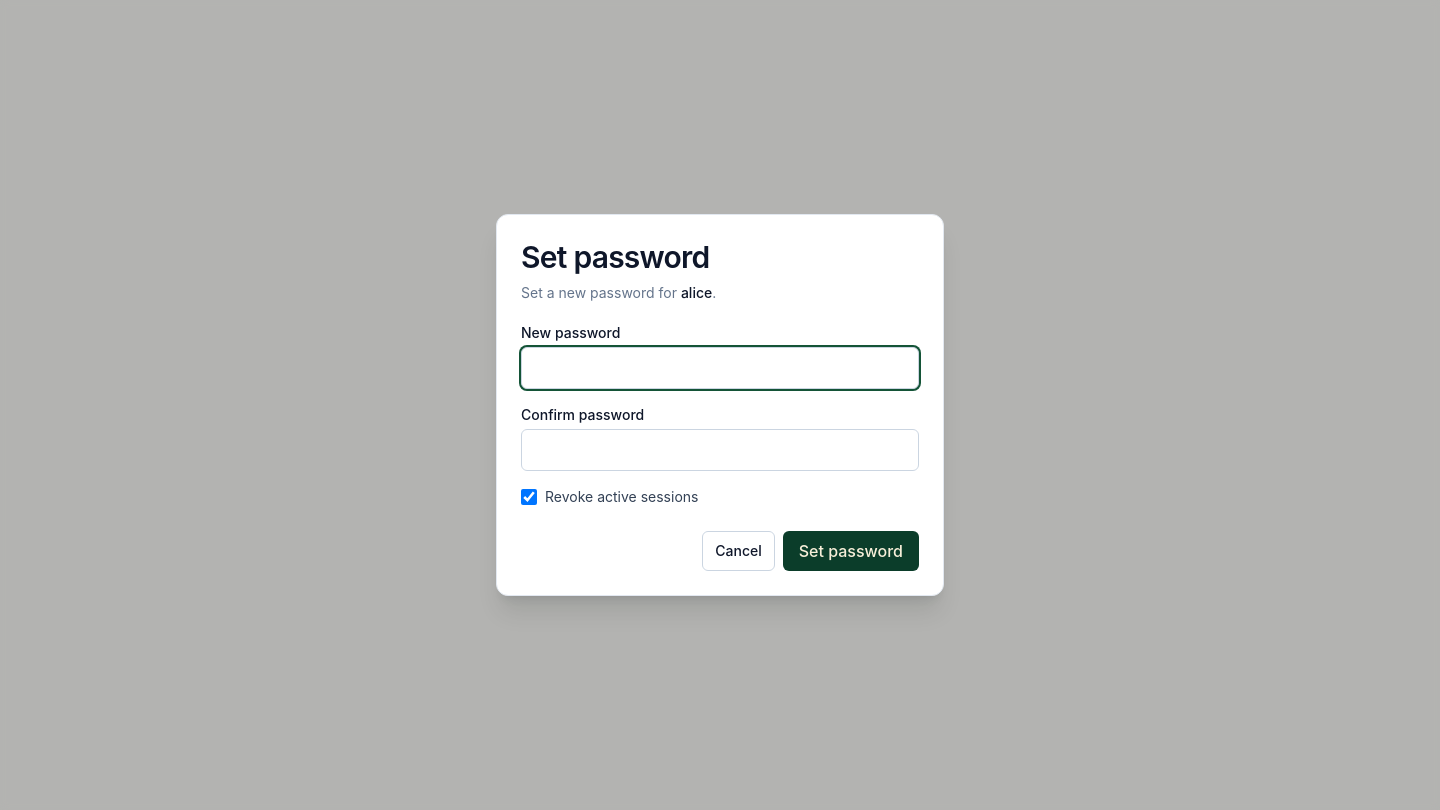
Test: validates password is required
Click the button "Set password" at (851, 551), box [783,531,919,571]
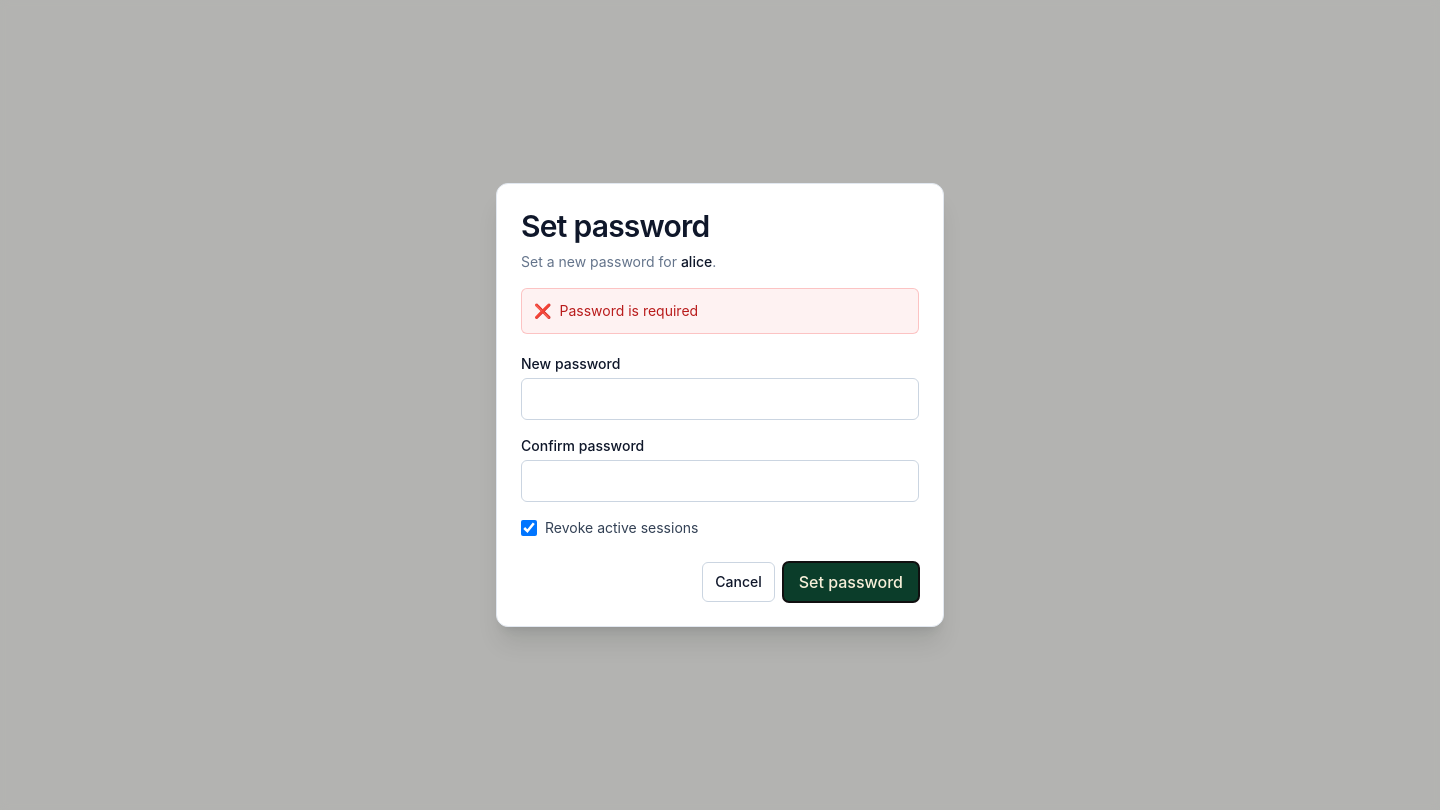
Expected: the message shows "Password is required", [560,302,698,319]
